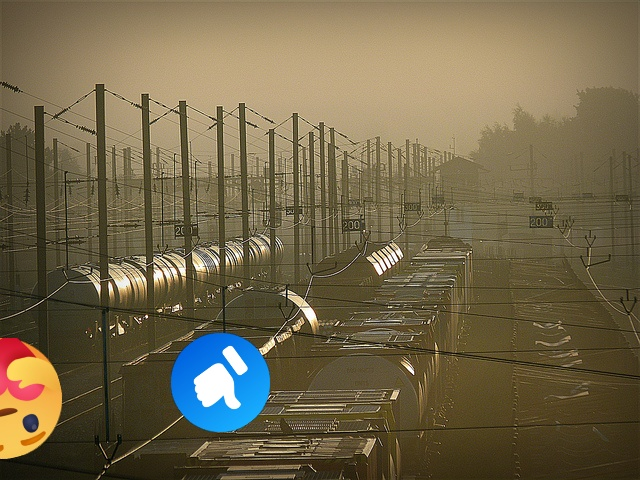care: (0, 338, 62, 459)
like: (171, 333, 270, 432)
